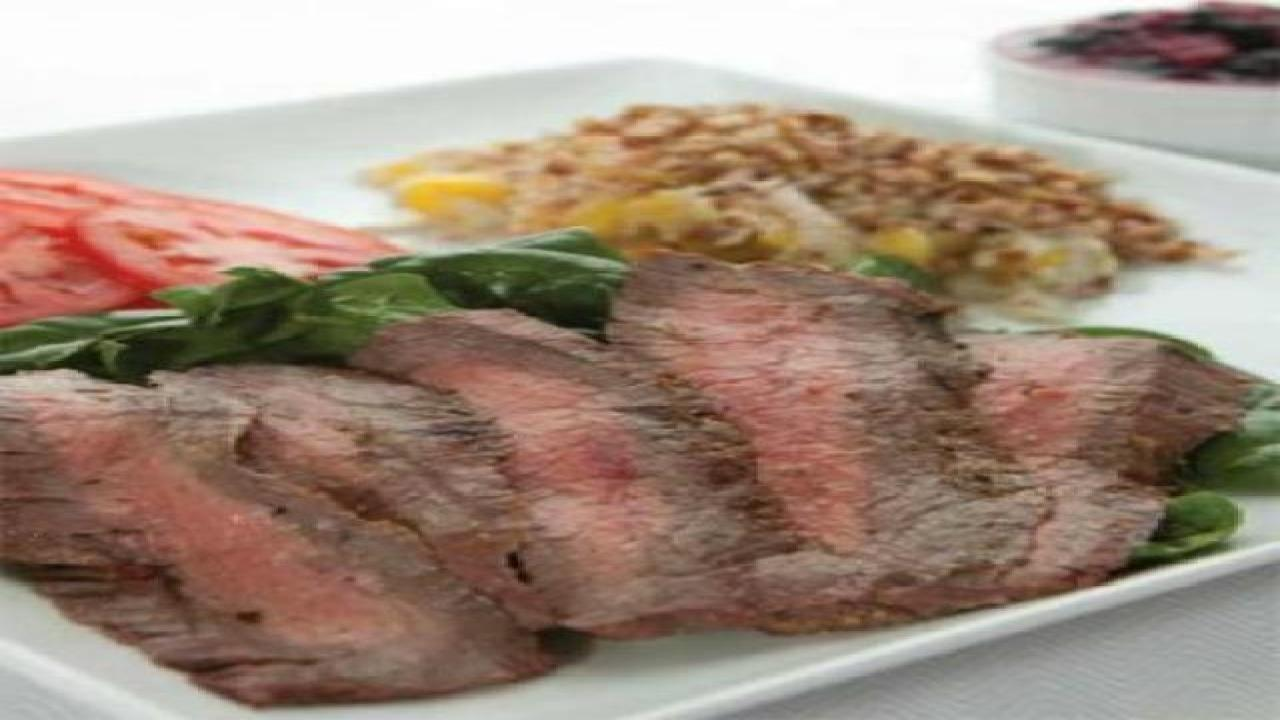Carne: (52, 237, 1254, 698)
